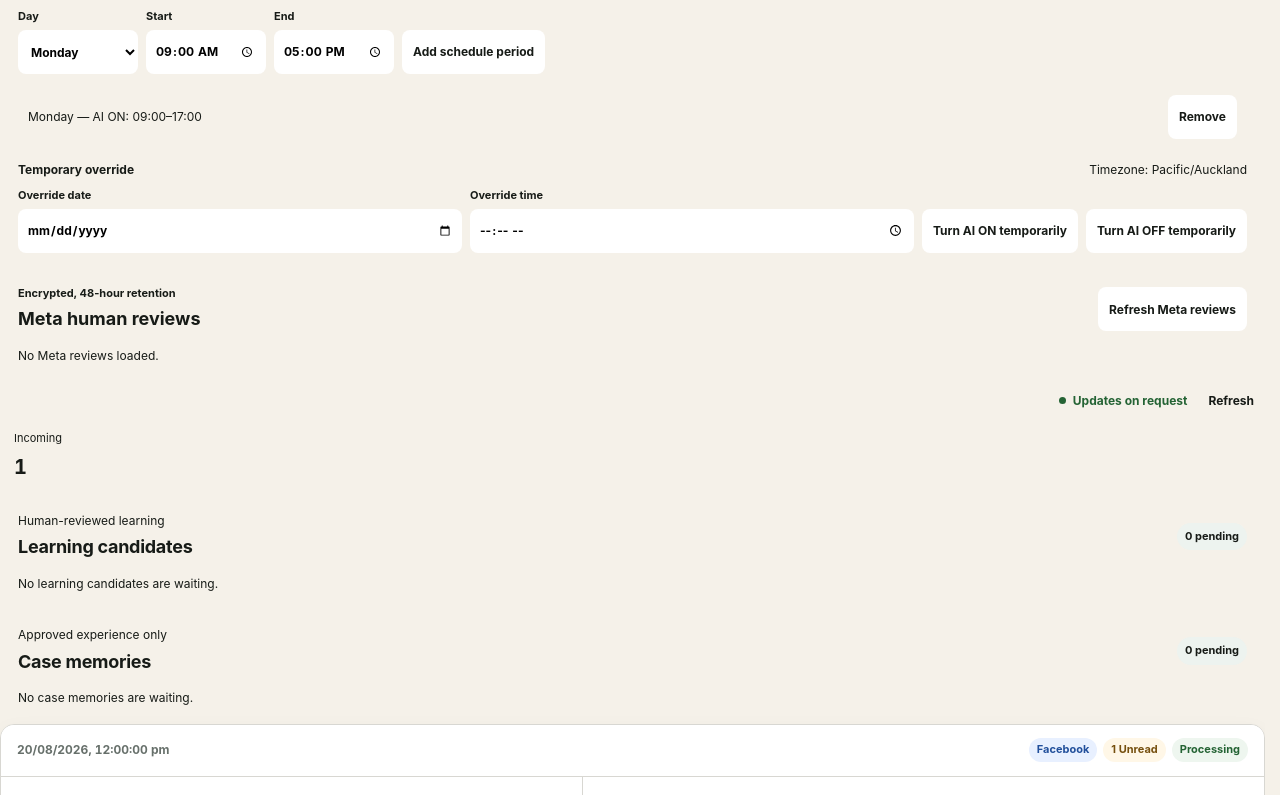
ReplyAssistantLiveDashboard › performs one request per manual refresh and shows the update time
The width and height of the screenshot is (1280, 795).
(page scrolled)
Click the button with aria-label "Refresh conversations".
click(1231, 400)  # box x1=1197 y1=383 x2=1265 y2=417
Wait 15000 ms
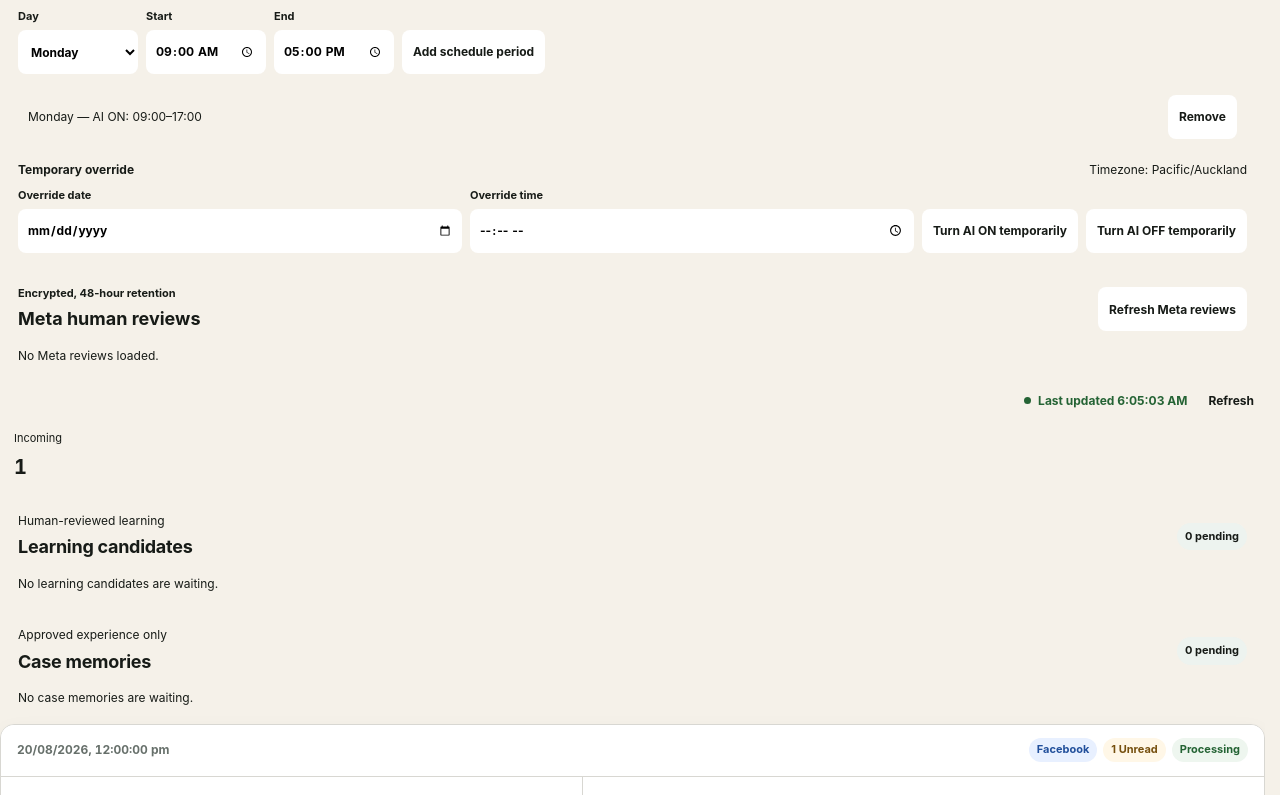
Result: the text "Last updated 6:05:03 AM" is shown at x1=1024 y1=391 x2=1187 y2=410
